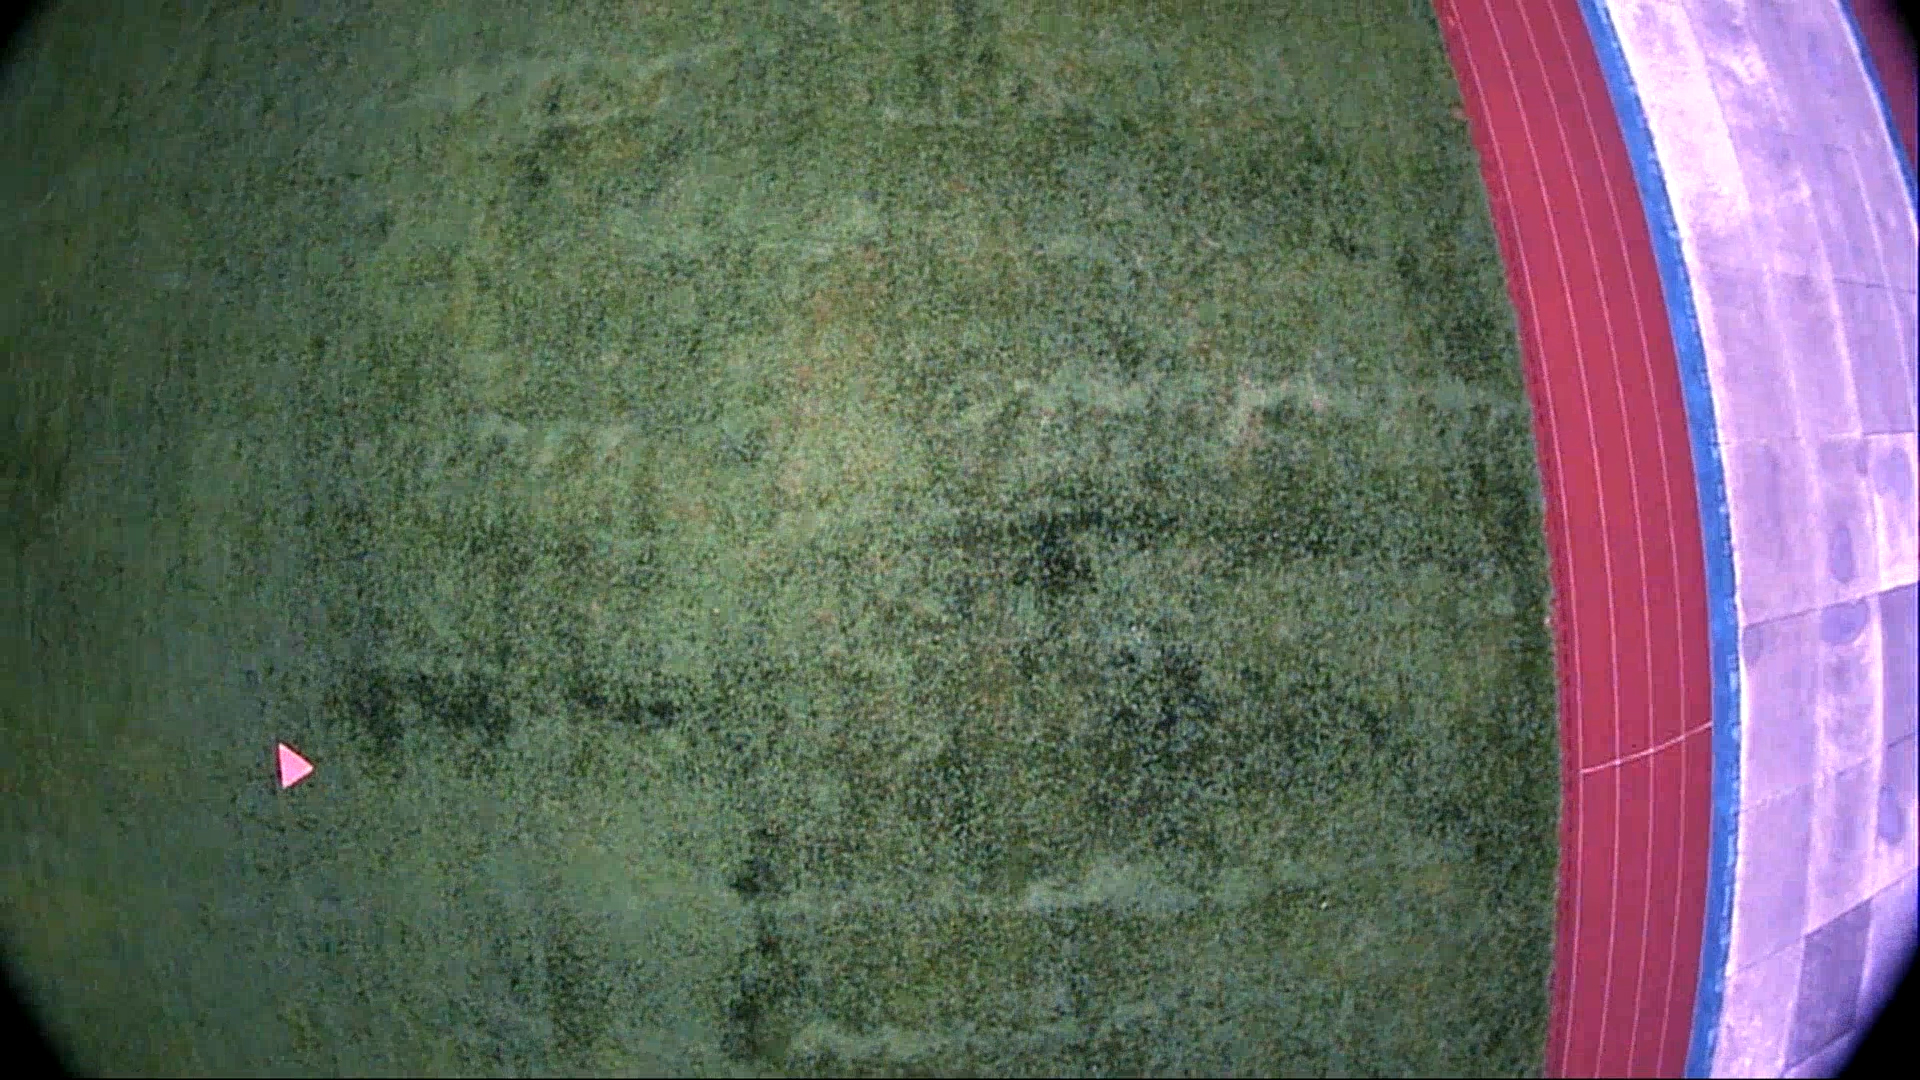triangle: (274, 741, 319, 793)
